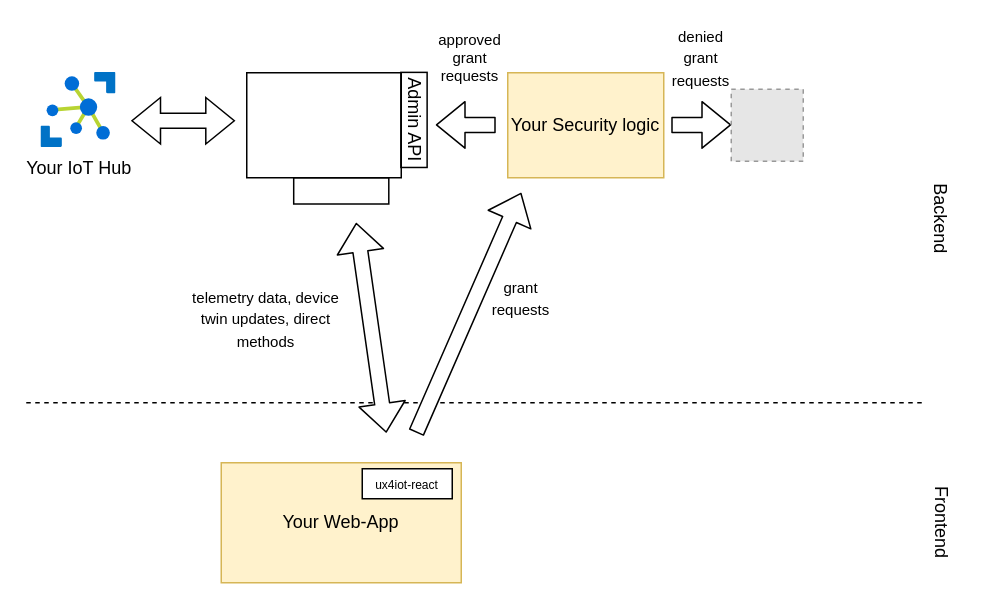
This 983x609 diagram has some shape labels left out. Grey dashed boxes stand in for pictures. Here are the shapes that lost their labels. From the top down, the centre of each, then its label:
At point (323, 124): "ux4iot instance in your Azure Subscription".
At point (340, 190): "Client API".
